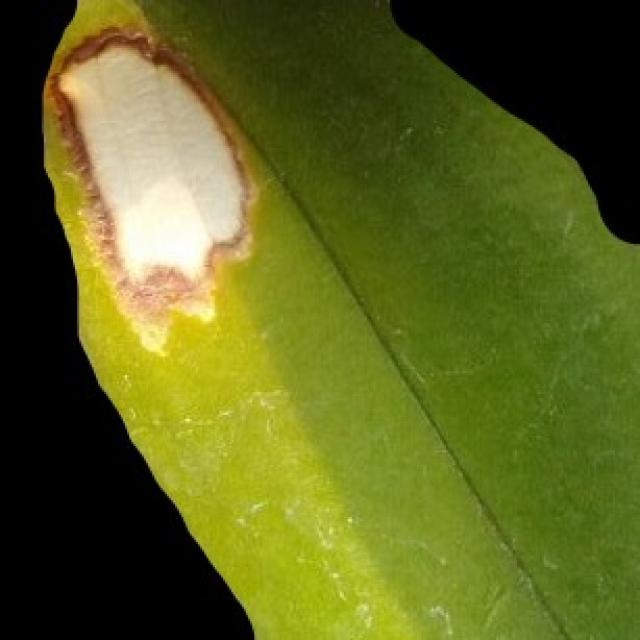mite: (388, 0, 638, 248), (356, 0, 386, 8)
spots: (38, 0, 638, 638)
sunburn: (44, 23, 261, 348)
